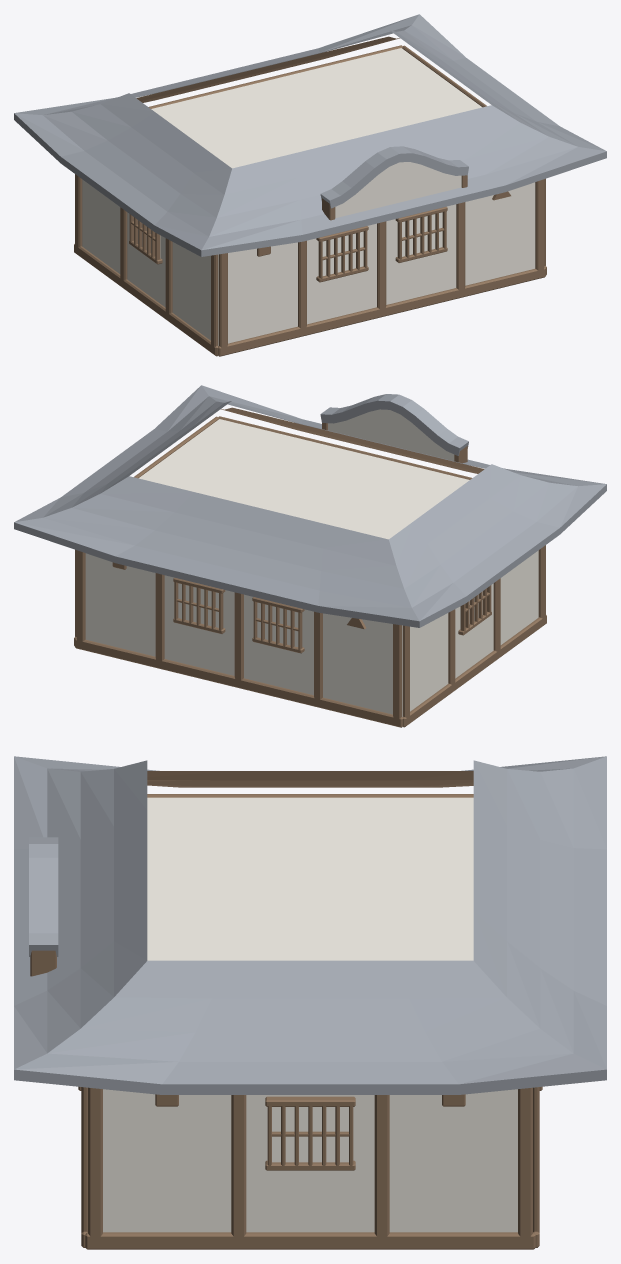
File: feudal-japan-castle-town-keep-tier-3-984b5b78__26541.glb
3 renders of one model, top to bottom at view 1: azimuth 30°, elevation 25°; view 2: azimuth 150°, elevation 25°; view 3: azimuth 270°, elevation 25°, orthographic. The views are drawn at different scales.
Visible parts, largest first — view 1: keep-tier-3; view 2: keep-tier-3; view 3: keep-tier-3.
Boxes of the visible parts, x1=… form: keep-tier-3: x1=14, y1=14, x2=606, y2=356; keep-tier-3: x1=14, y1=385, x2=606, y2=727; keep-tier-3: x1=14, y1=756, x2=606, y2=1249.
Bounding box in the file's own units: 10 × 4.15 × 8.
